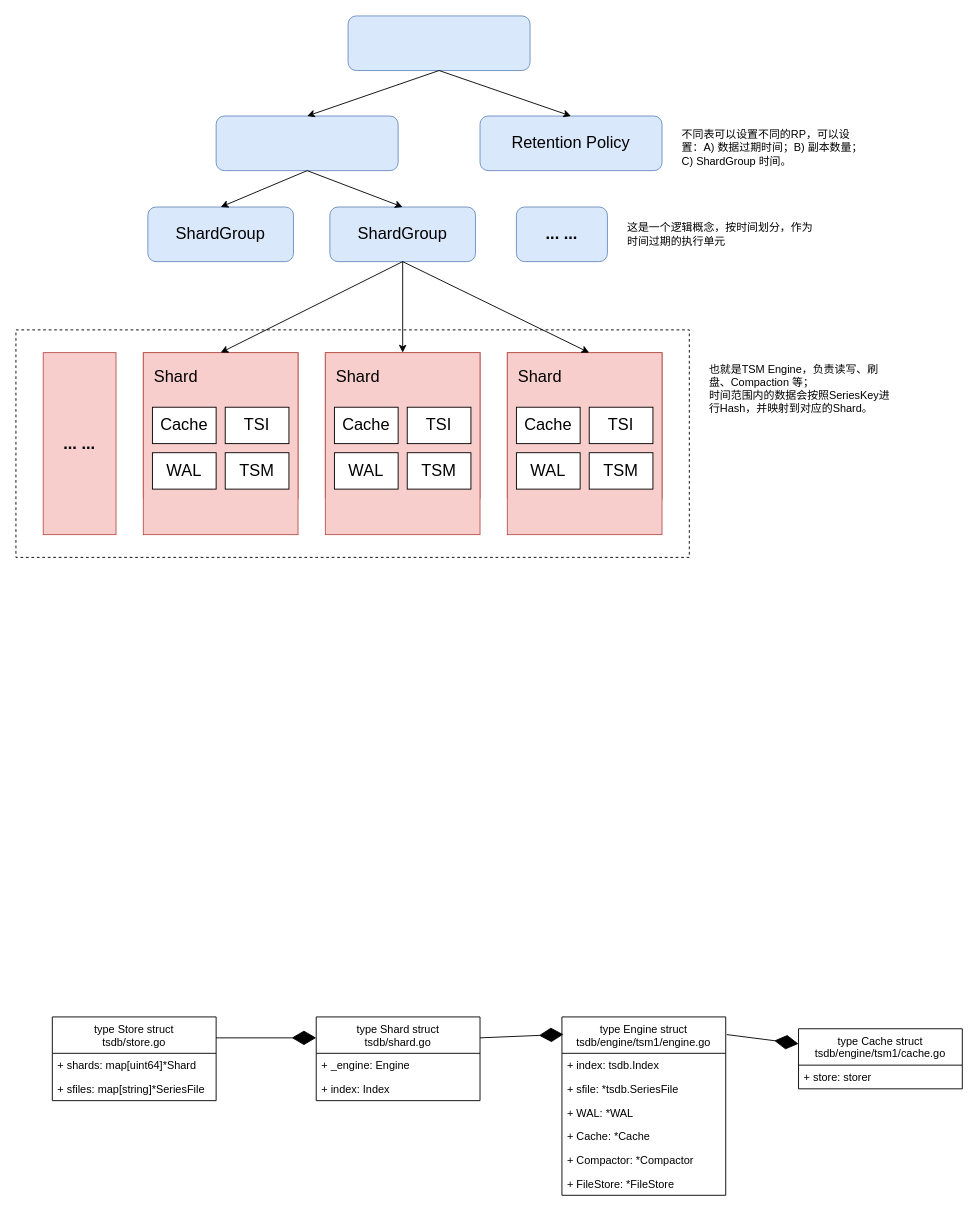
Image size: 978x1214. Some labels were removed from this diagram. The centre of each missing label's shape, as x and y in pixels:
"DataBase" goes at (x=438, y=43).
"Retention Policy (Default)" goes at (x=306, y=143).
